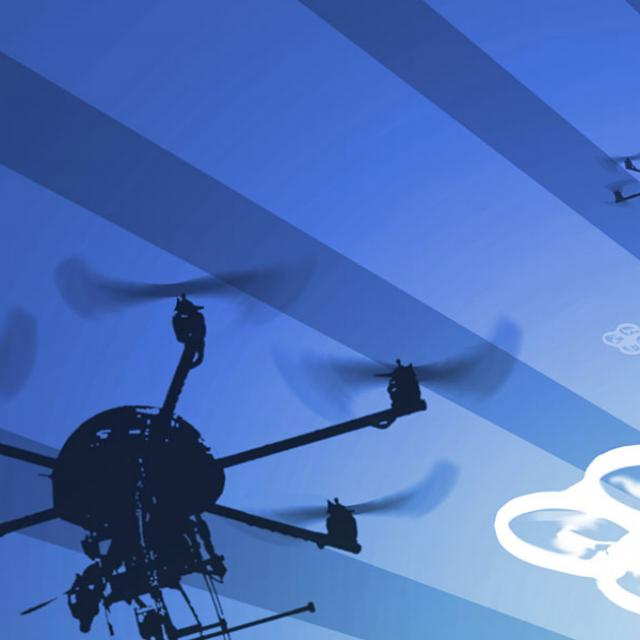drone: (0, 263, 480, 599), (466, 440, 640, 640), (598, 126, 640, 237), (594, 316, 640, 355)
